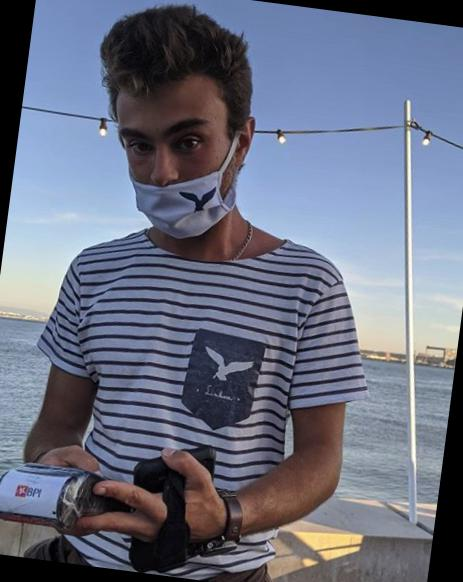mask_weared_incorrect: (101, 111, 256, 242)
